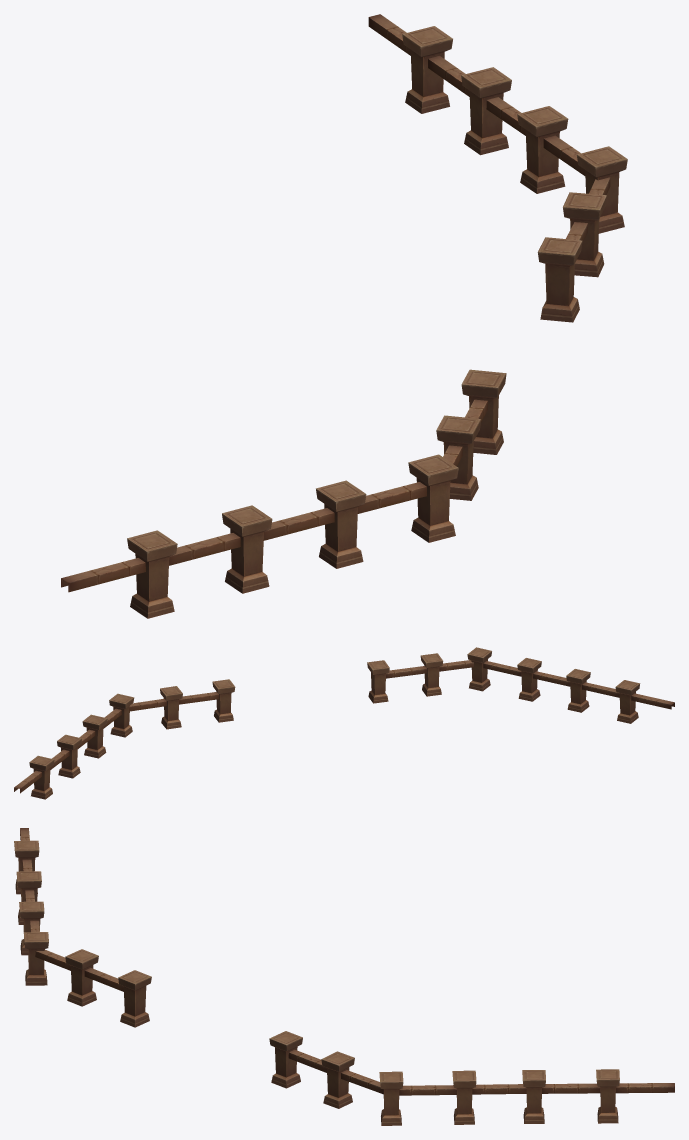
Rendered from Area_12_12.fbx.
3 views of the same model, one above another, from view 1: azimuth 30°, elevation 25°; view 2: azimuth 150°, elevation 25°; view 3: azimuth 270°, elevation 25° (orthographic). The views are drawn at different scales.
Visible parts, largest first — view 1: Area_12_12; view 2: Area_12_12; view 3: Area_12_12.
Part boxes in pixels (left/top/right/bottom): Area_12_12: left=61, top=14, right=627, bottom=618; Area_12_12: left=14, top=647, right=674, bottom=799; Area_12_12: left=14, top=828, right=674, bottom=1125.
Size of the model in its own units: 1991 by 155 by 2099.
